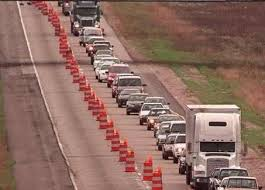barrel: (142, 162, 152, 182), (126, 155, 136, 172), (152, 172, 161, 190), (120, 145, 128, 162), (111, 135, 119, 151), (100, 114, 107, 130), (97, 108, 104, 121), (93, 102, 100, 115), (89, 97, 95, 110), (73, 72, 80, 83), (85, 92, 92, 101), (106, 130, 112, 140), (66, 59, 71, 69), (80, 83, 86, 90), (73, 65, 77, 75)
